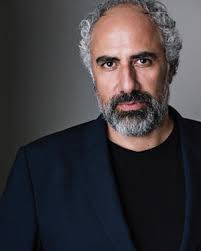middle_eastern_male: (89, 4, 173, 132)
